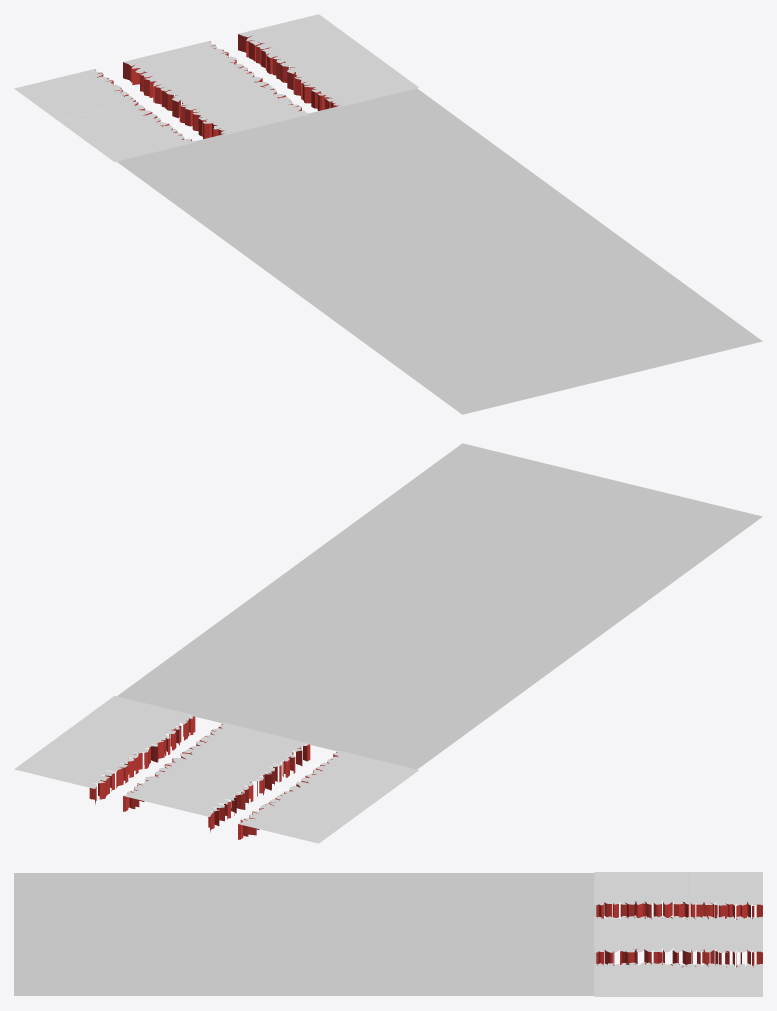
File: untitlesddsdd.fbx
3 views of the same model, one above another, from view 1: azimuth 30°, elevation 25°; view 2: azimuth 150°, elevation 25°; view 3: azimuth 270°, elevation 25° (orthographic). The views are drawn at different scales.
Parts seen in each view (by area): view 1: Plane, Plane.008, Plane.009, Plane.010, Plane.001; view 2: Plane, Plane.008, Plane.009, Plane.010, Plane.001; view 3: Plane, Plane.010, Plane.008, Plane.009, Plane.001.
Boxes of the visible parts, box(x1,y1,x2,y2) form: Plane: box(117, 88, 762, 414); Plane.008: box(123, 41, 309, 138); Plane.009: box(238, 14, 418, 110); Plane.010: box(14, 69, 194, 161); Plane.001: box(118, 88, 543, 391); Plane: box(117, 443, 762, 769); Plane.008: box(123, 722, 310, 832); Plane.009: box(14, 696, 195, 804); Plane.010: box(238, 750, 418, 843); Plane.001: box(117, 519, 704, 769); Plane: box(14, 873, 596, 995); Plane.010: box(594, 872, 762, 918); Plane.008: box(594, 916, 762, 965); Plane.009: box(594, 962, 762, 996); Plane.001: box(43, 873, 594, 995).
Size of the model in its own units: 9814 by 505 by 24882.
